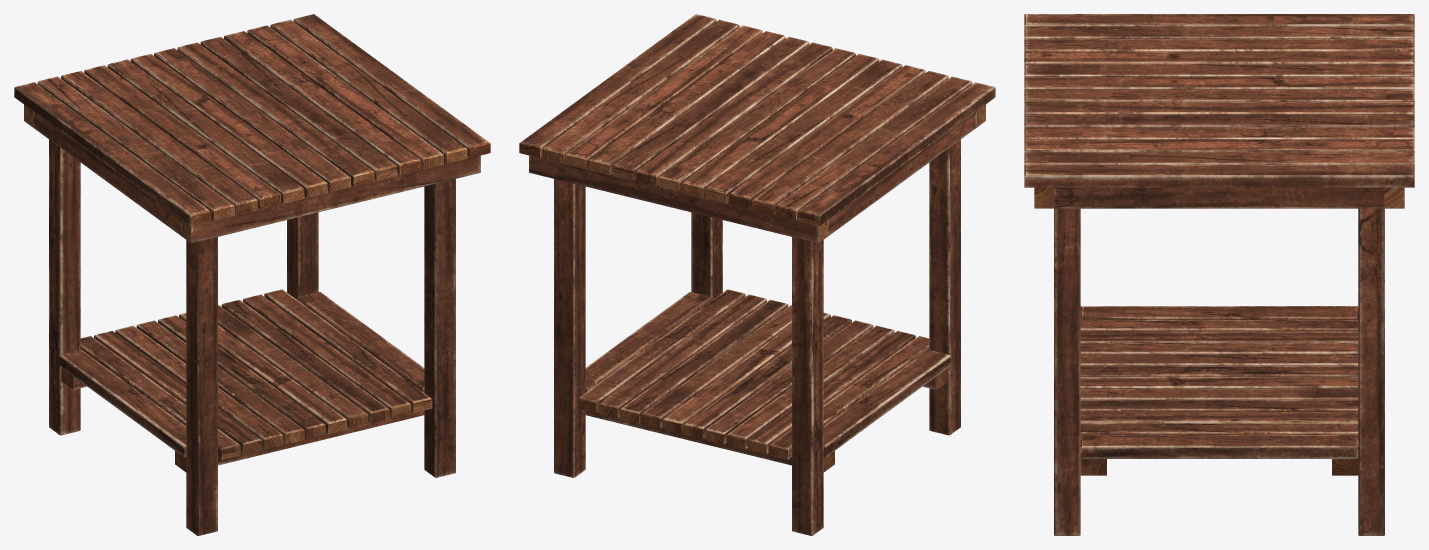
File: tabletto (1).glb
The picture shows the model from 3 angles, left to right: view 1: azimuth 30°, elevation 25°; view 2: azimuth 150°, elevation 25°; view 3: azimuth 270°, elevation 25°; orthographic projection. The views are drawn at different scales.
Visible parts, largest first — view 1: Tabletto-_Tabletto_0; view 2: Tabletto-_Tabletto_0; view 3: Tabletto-_Tabletto_0.
Part boxes in pixels (x1,y1,x2,y2): Tabletto-_Tabletto_0: (14, 14, 490, 535); Tabletto-_Tabletto_0: (519, 14, 995, 535); Tabletto-_Tabletto_0: (1024, 14, 1414, 535).
Bounding box in the file's own units: 26.24 × 28.05 × 26.7.
1 material, 1 textured.
